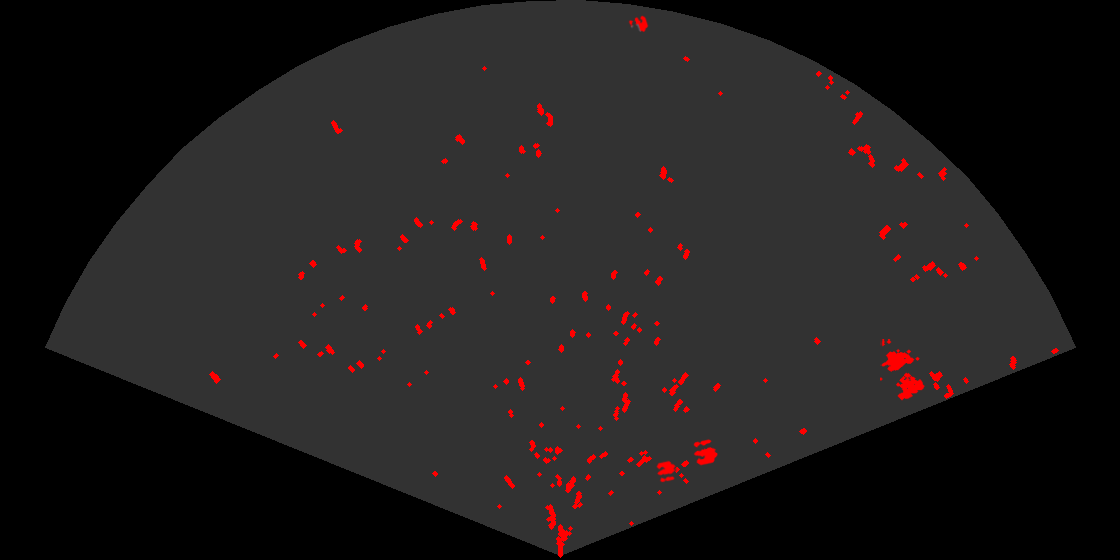ball: (692, 438, 719, 467), (655, 459, 677, 484), (627, 14, 650, 34)
cage: (880, 339, 926, 402)
